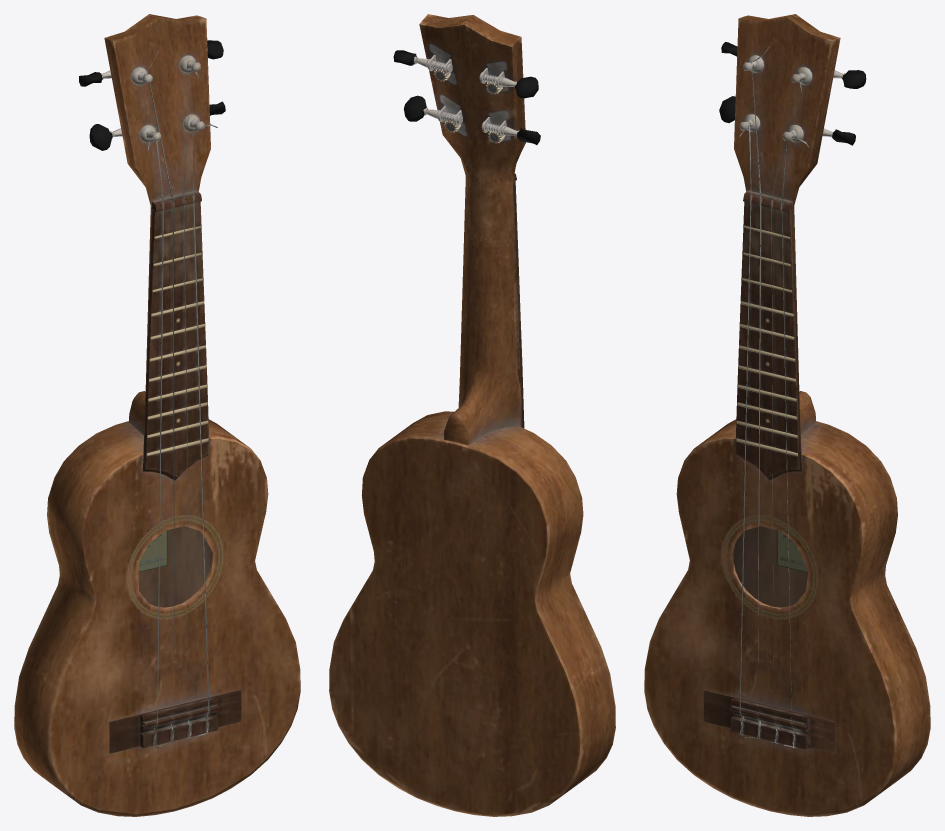
File: Ukulele_01.glb
3 views of the same model, side by side, from view 1: azimuth 30°, elevation 25°; view 2: azimuth 150°, elevation 25°; view 3: azimuth 330°, elevation 25° (orthographic).
Visible parts, largest first — view 1: Ukulele_01; view 2: Ukulele_01; view 3: Ukulele_01.
Boxes of the visible parts, left/top/right/bottom form: Ukulele_01: left=14, top=14, right=300, bottom=816; Ukulele_01: left=329, top=14, right=615, bottom=816; Ukulele_01: left=644, top=14, right=930, bottom=816.
Bounding box in the file's own units: 0.1779 × 0.527 × 0.0507.
1 material, 1 textured.
